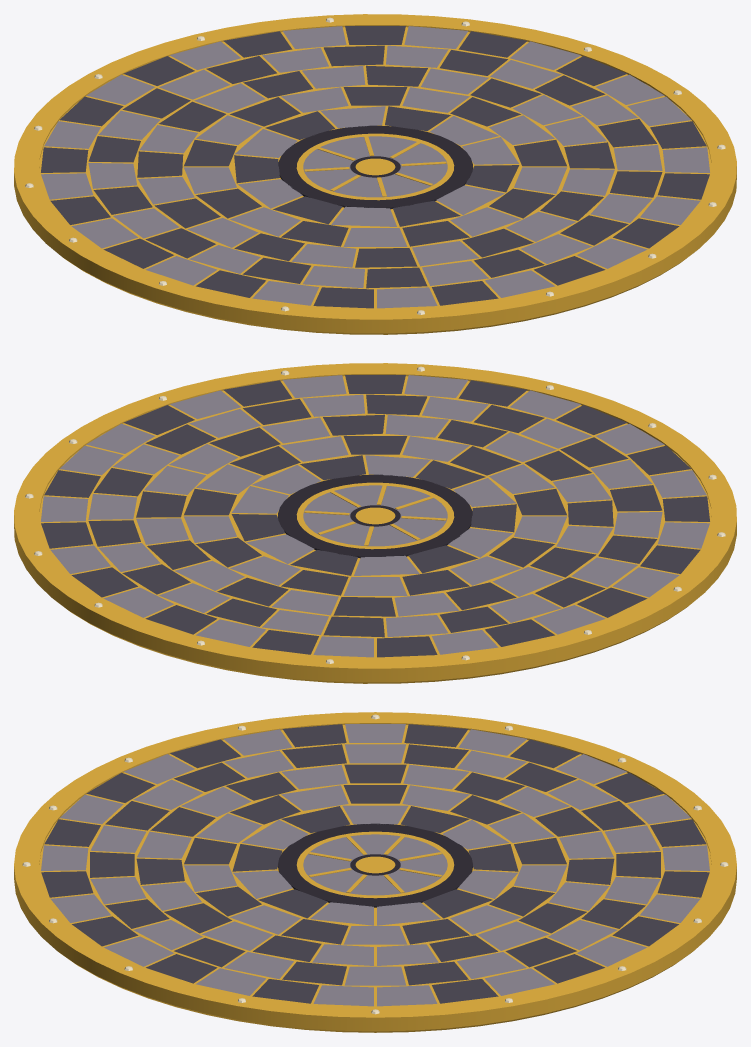
Rendered from vault_floor_disc.glb.
3 views of the same model, one above another, from view 1: azimuth 30°, elevation 25°; view 2: azimuth 150°, elevation 25°; view 3: azimuth 270°, elevation 25° (orthographic).
Visible parts, largest first — view 1: vault_floor_disc; view 2: vault_floor_disc; view 3: vault_floor_disc.
Part boxes in pixels (<box>): vault_floor_disc: <box>14,14,736,334</box>; vault_floor_disc: <box>14,363,736,683</box>; vault_floor_disc: <box>14,712,736,1032</box>.
Bounding box in the file's own units: 20 × 0.5715 × 20.
